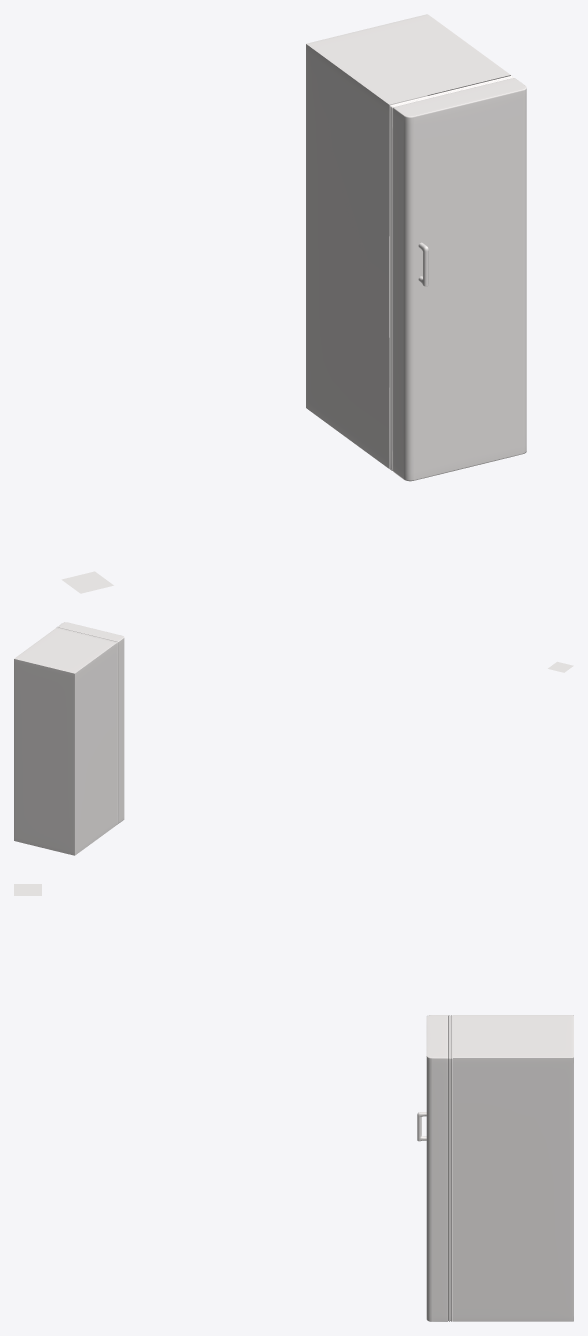
File: fridge.gltf
3 renders of one model, top to bottom at view 1: azimuth 30°, elevation 25°; view 2: azimuth 150°, elevation 25°; view 3: azimuth 270°, elevation 25°, orthographic. The views are drawn at different scales.
Visible parts, largest first — view 1: DoorSeal; view 2: DoorSeal; view 3: DoorSeal.
Part boxes in pixels (box(x1,y1,x2,y2)): DoorSeal: box(61, 14, 526, 593); DoorSeal: box(14, 622, 573, 855); DoorSeal: box(14, 884, 573, 1321).
Bounding box in the file's own units: 43.62 × 20.71 × 39.79.
